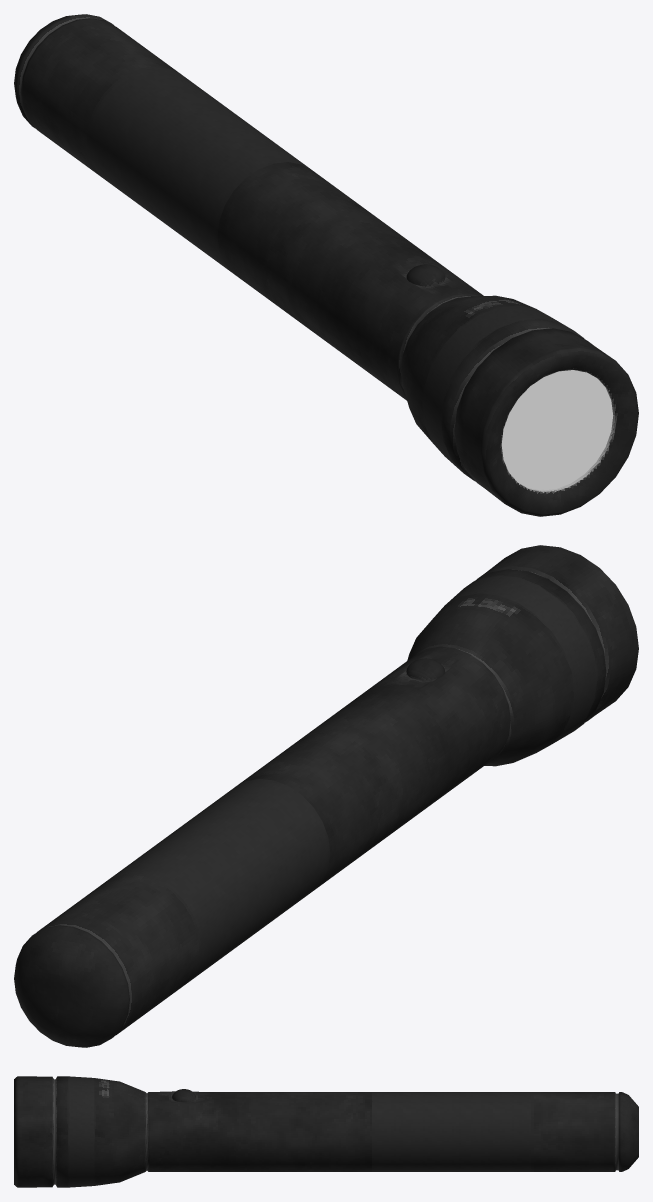
The model's file is flashlight.glb.
3 views of the same model, one above another, from view 1: azimuth 30°, elevation 25°; view 2: azimuth 150°, elevation 25°; view 3: azimuth 270°, elevation 25° (orthographic). The views are drawn at different scales.
Parts seen in each view (by area): view 1: body, lens; view 2: body; view 3: body.
Part boxes in pixels (bbox=[...]): body: bbox=[14, 14, 638, 516]; lens: bbox=[501, 370, 613, 490]; body: bbox=[14, 545, 638, 1047]; body: bbox=[14, 1076, 638, 1187].
Size of the model in its own units: 0.0448 by 0.0448 by 0.25.
Materials: 1 (1 with a texture image).
